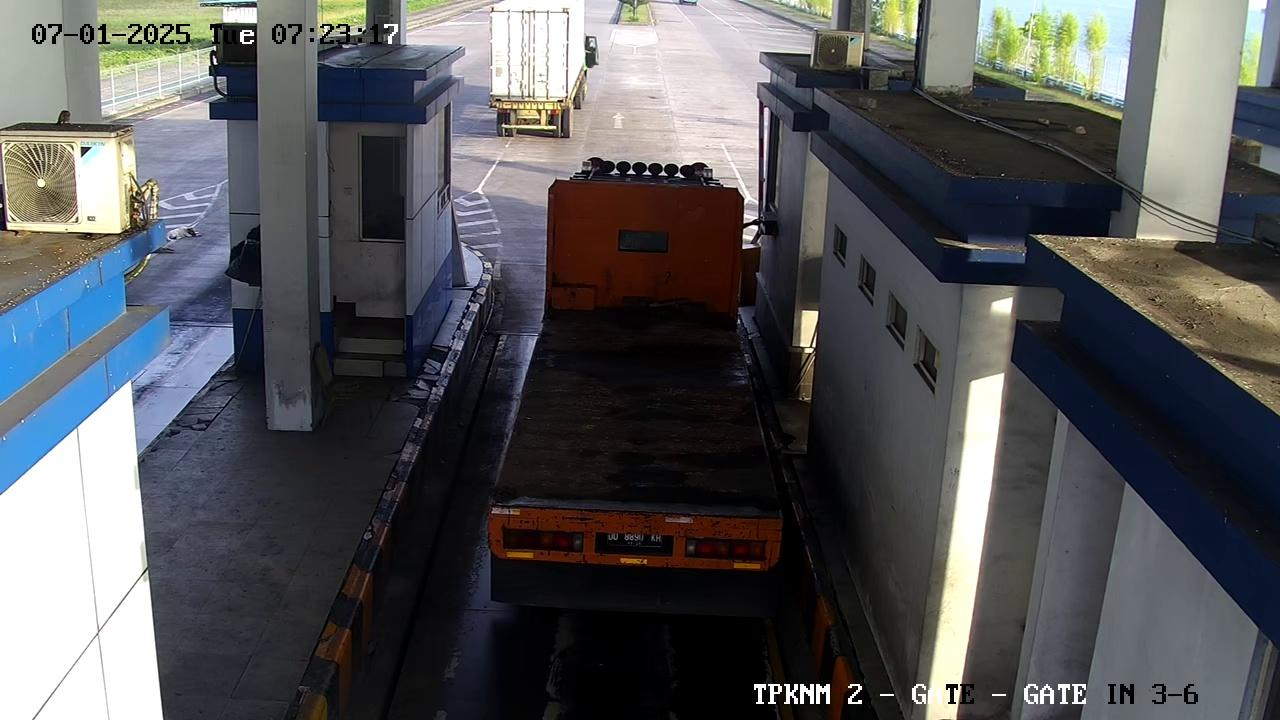plate_number: (599, 524, 670, 557)
